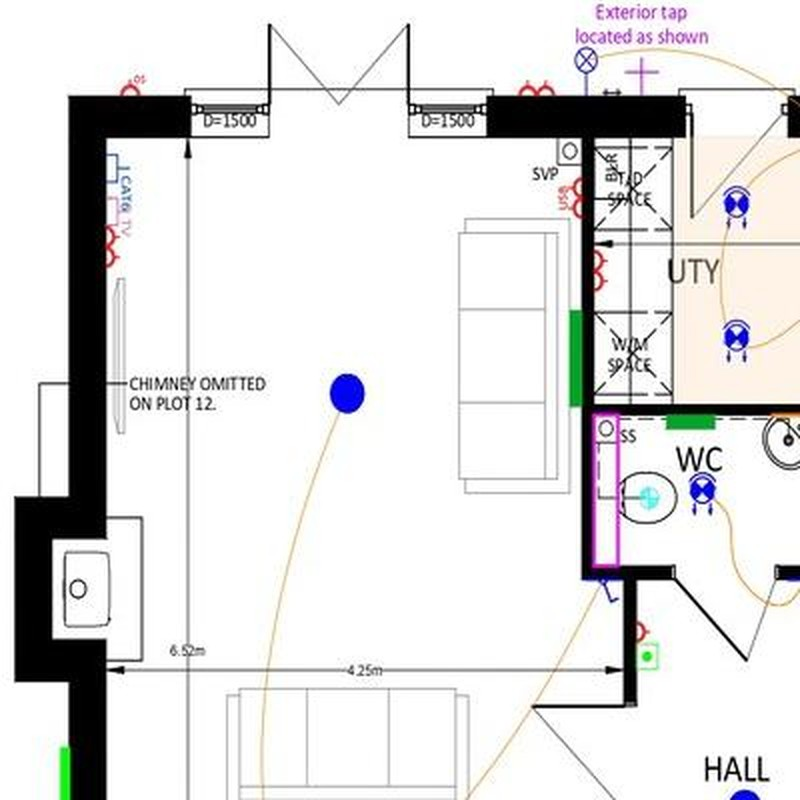Cat 6 Data Socket: (107, 153, 134, 212)
Ceiling Mounted Continuous Extract FanWith Boost Mode Activated By Light Switch: (640, 487, 659, 508)
Co-Ax TV Socket: (106, 197, 133, 237)
Double Socket: (593, 249, 608, 291), (106, 226, 121, 268), (518, 80, 555, 96)
External Wall Light: (574, 47, 598, 97)
Fused spur: (121, 74, 147, 97)
Gas Meter Box: (59, 747, 71, 800)
Light Switch: (597, 579, 620, 603)
Low Energy Downlighter: (723, 186, 751, 228), (689, 473, 717, 515), (723, 320, 750, 363)
Low Energy Pendant Light: (331, 374, 365, 413)
Outside Tap: (624, 56, 659, 96)
Programmable Room Thermostat: (637, 643, 658, 669)
Radiator: (569, 310, 582, 407), (667, 414, 715, 429)
Single Socket: (637, 621, 650, 642)
USB Double Socket: (558, 178, 582, 219)
